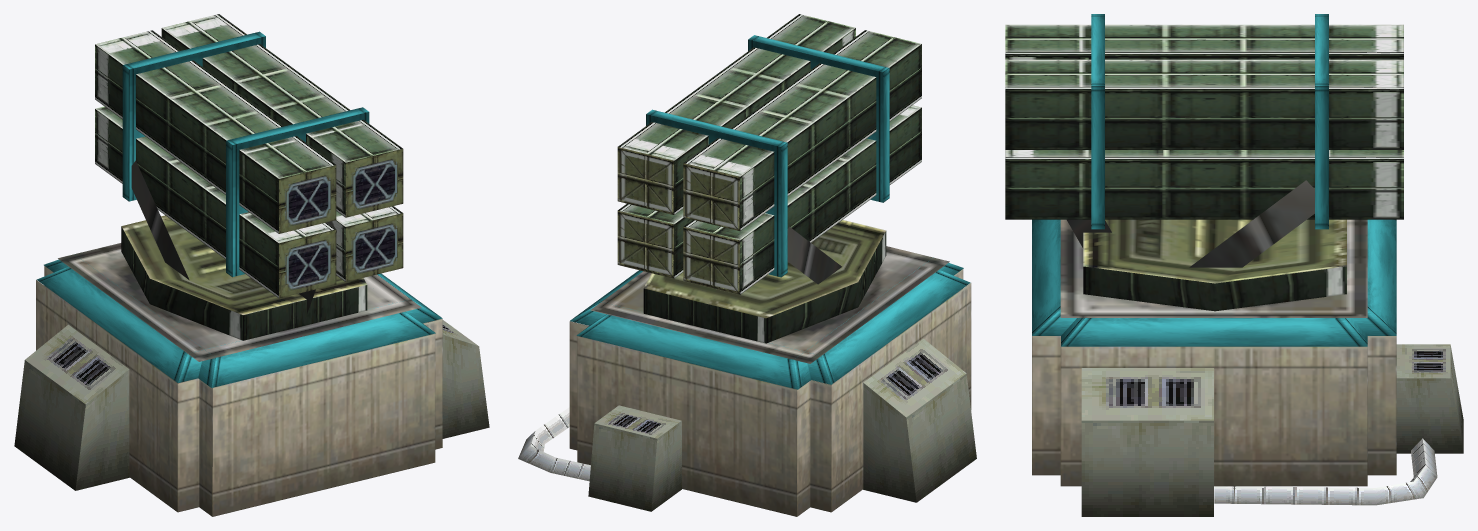
File: air_defense.glb
The picture shows the model from 3 angles, left to right: view 1: azimuth 30°, elevation 25°; view 2: azimuth 150°, elevation 25°; view 3: azimuth 270°, elevation 25°; orthographic projection. The views are drawn at different scales.
Parts seen in each view (by area): view 1: CHASSIS (×2), TURRETEL, TURRET01, HOUSECOLOR01, HOUSECOLOR02; view 2: CHASSIS (×3), TURRETEL, TURRET01, HOUSECOLOR01, HOUSECOLOR02; view 3: TURRETEL, CHASSIS (×3), TURRET01, HOUSECOLOR01, HOUSECOLOR02.
Part boxes in pixels (x1=…): CHASSIS (×2): x1=14, y1=243, x2=489, y2=516; TURRETEL: x1=95, y1=14, x2=403, y2=313; TURRET01: x1=121, y1=215, x2=367, y2=340; HOUSECOLOR01: x1=37, y1=255, x2=442, y2=387; HOUSECOLOR02: x1=122, y1=31, x2=369, y2=277; CHASSIS (×3): x1=518, y1=246, x2=976, y2=516; TURRETEL: x1=617, y1=14, x2=921, y2=294; TURRET01: x1=643, y1=220, x2=886, y2=343; HOUSECOLOR01: x1=570, y1=257, x2=970, y2=389; HOUSECOLOR02: x1=646, y1=35, x2=889, y2=277; TURRETEL: x1=1005, y1=24, x2=1403, y2=267; CHASSIS (×3): x1=1032, y1=219, x2=1463, y2=516; TURRET01: x1=1083, y1=219, x2=1346, y2=311; HOUSECOLOR01: x1=1032, y1=219, x2=1396, y2=346; HOUSECOLOR02: x1=1091, y1=14, x2=1328, y2=229.
Bounding box in the file's own units: 18.54 × 16.08 × 18.09.
Materials: 7 (7 with a texture image).
